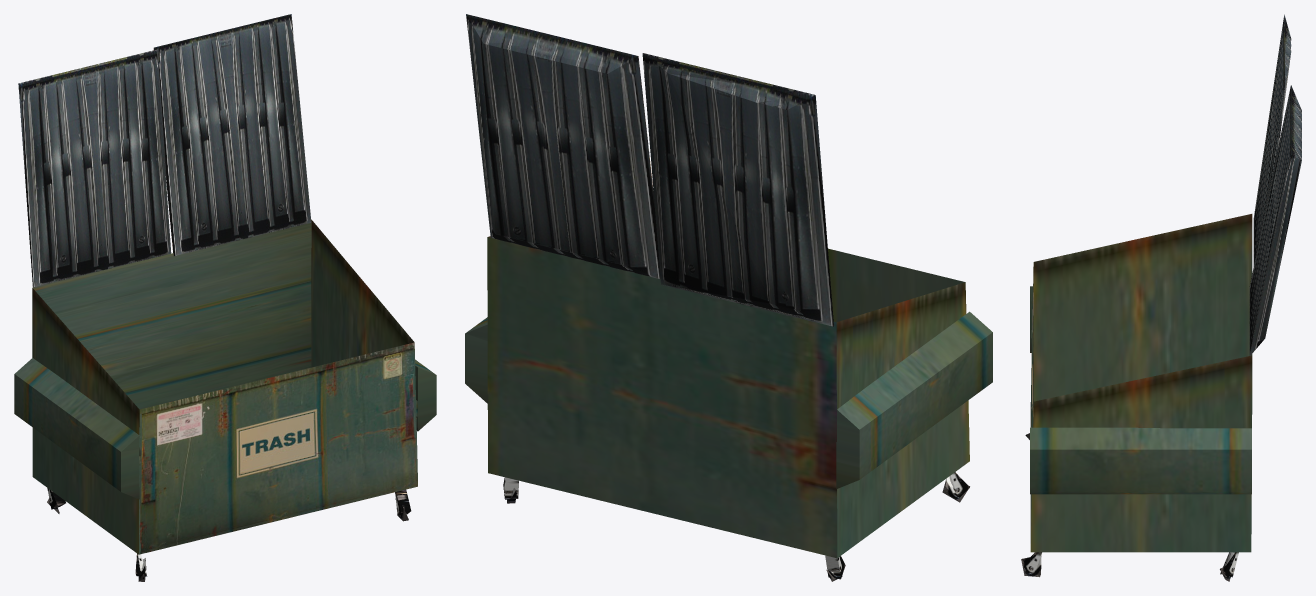
The model's file is dumpster_100.fbx.
The picture shows the model from 3 angles, left to right: view 1: azimuth 30°, elevation 25°; view 2: azimuth 150°, elevation 25°; view 3: azimuth 270°, elevation 25°; orthographic projection. The views are drawn at different scales.
Visible parts, largest first — view 1: box0, doorb0, doora0, NoName_9, bolsters0, wheels0; view 2: box0, doora0, doorb0, NoName_9, bolsters0, wheels0; view 3: box0, bolsters0, doorb0, doora0, wheels0.
Part boxes in pixels (bbox=[...]): box0: bbox=[32, 219, 417, 554]; doorb0: bbox=[153, 14, 311, 256]; doora0: bbox=[18, 49, 171, 287]; NoName_9: bbox=[14, 358, 139, 499]; bolsters0: bbox=[415, 359, 436, 431]; wheels0: bbox=[47, 488, 411, 581]; box0: bbox=[487, 236, 969, 558]; doora0: bbox=[642, 53, 833, 326]; doorb0: bbox=[466, 14, 660, 279]; NoName_9: bbox=[836, 311, 992, 488]; bolsters0: bbox=[465, 317, 488, 403]; wheels0: bbox=[503, 472, 969, 581]; box0: bbox=[1030, 214, 1252, 552]; bolsters0: bbox=[1030, 427, 1251, 494]; doorb0: bbox=[1249, 85, 1301, 355]; doora0: bbox=[1253, 14, 1291, 266]; wheels0: bbox=[1021, 433, 1238, 581].
Size of the model in its own units: 3.56 by 4.45 by 2.64.
